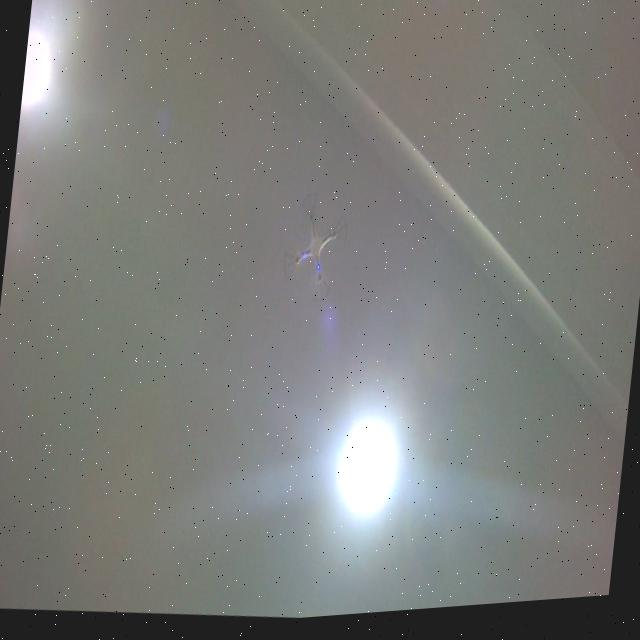drone: (275, 188, 357, 314)
